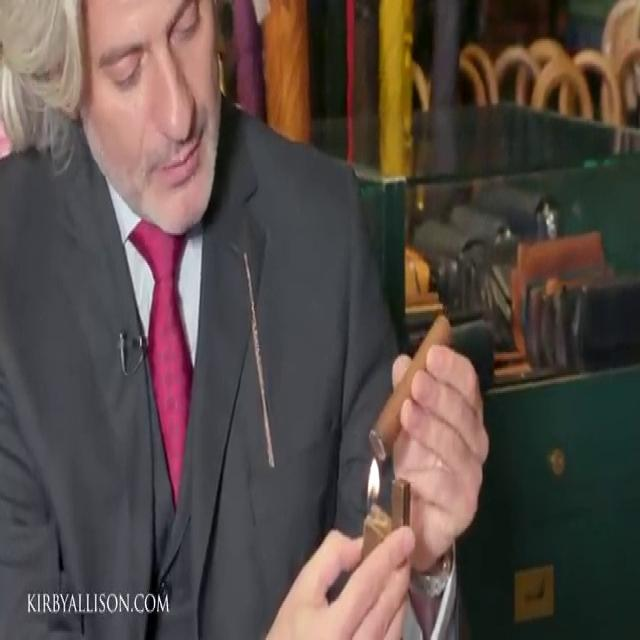Smooking: (359, 282, 456, 527)
